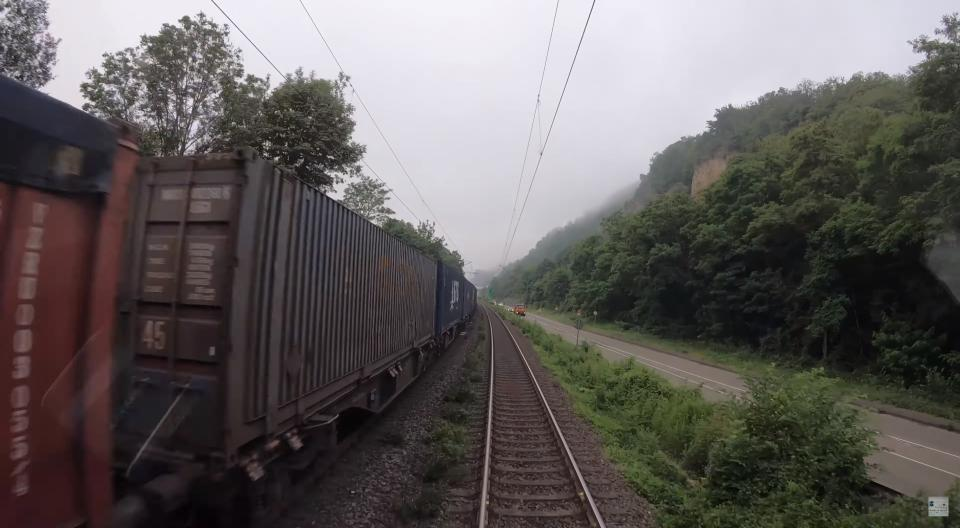Plant: (532, 344, 690, 528), (399, 344, 482, 528), (478, 326, 486, 340)
